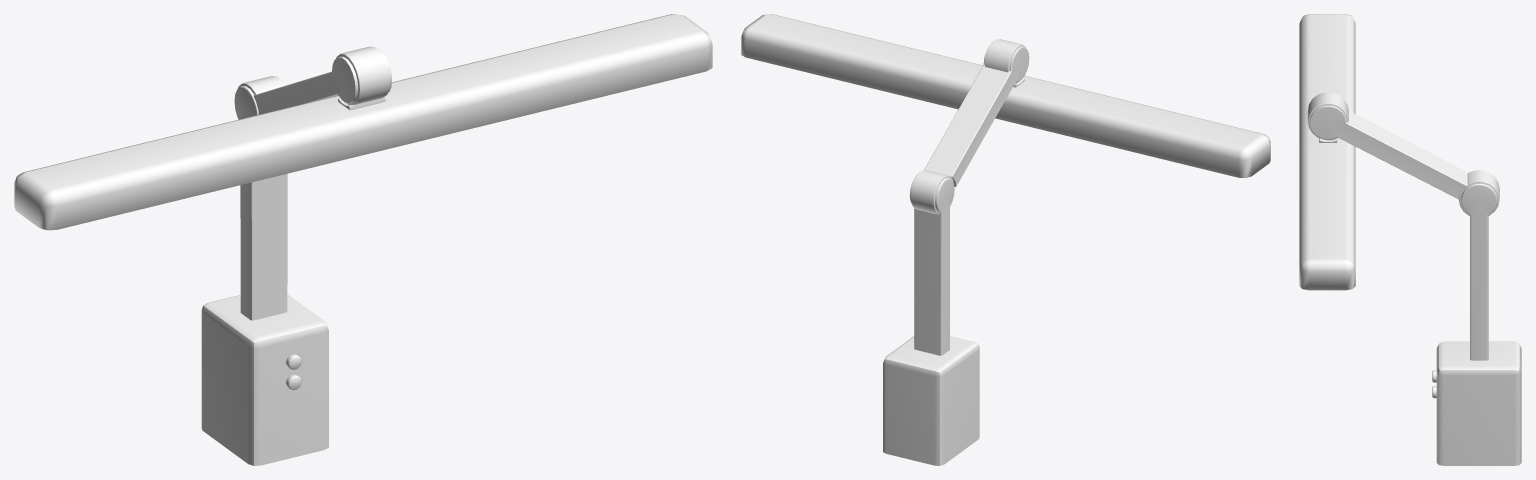
Rendered from right.fbx.
3 renders of one model, left to right at view 1: azimuth 30°, elevation 25°; view 2: azimuth 150°, elevation 25°; view 3: azimuth 270°, elevation 25°, orthographic. The views are drawn at different scales.
Visible parts, largest first — view 1: right; view 2: right; view 3: right.
Boxes of the visible parts, x1=… form: right: x1=14, y1=14, x2=712, y2=465; right: x1=741, y1=14, x2=1270, y2=465; right: x1=1299, y1=14, x2=1521, y2=465.
Bounding box in the file's own units: 673 × 437 × 250.
Materials: 1 (1 with a texture image).
